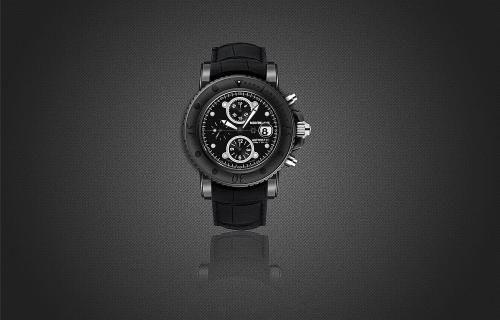watch: (165, 31, 316, 237)
